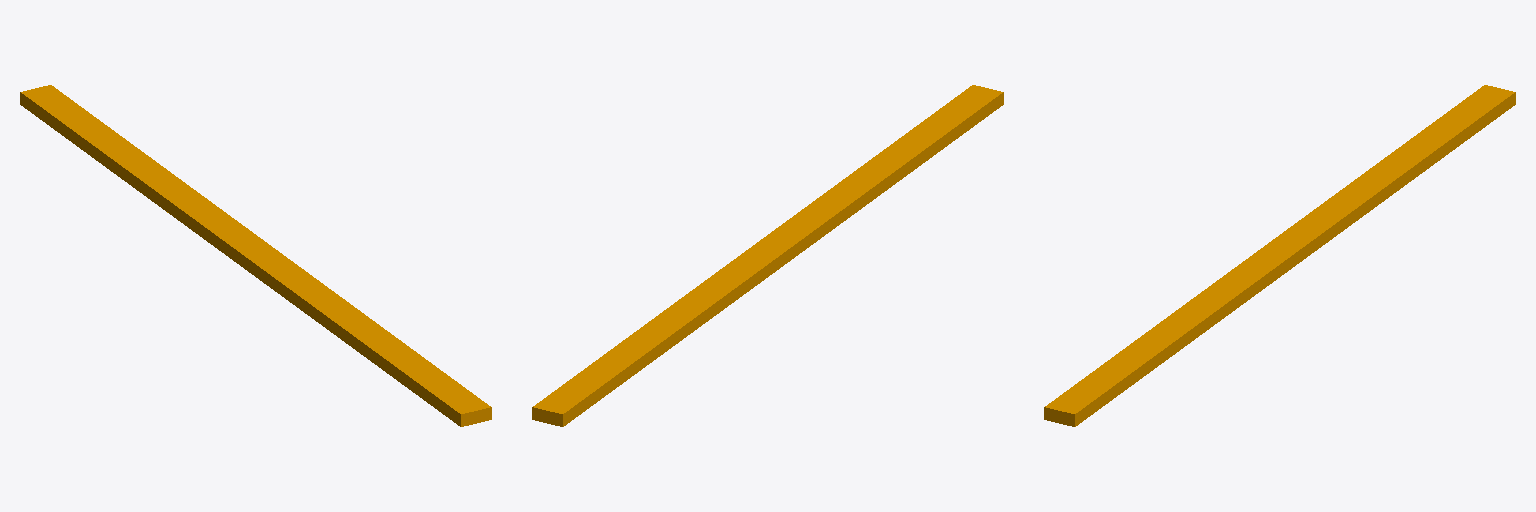
robot.urdf — rectangle:
<?xml version="1.0"?>
<robot name="rectangle">
    <link name="rectangle">
        <visual>
            <geometry>
                <box size="0.2 5.0 0.08" />
            </geometry>
            <origin xyz="0 0 0" rpy="0 0 0" />
        </visual>
        <collision>
            <geometry>
                <box size="0.2 5.0 0.08" />
            </geometry>
        </collision>
    </link>
</robot>

--- Render facts (derived) ---
The picture shows the robot from 3 angles, left to right: view 1: azimuth 30°, elevation 25°; view 2: azimuth 150°, elevation 25°; view 3: azimuth 330°, elevation 25°; orthographic projection.
Robot: rectangle — 1 links, 0 joints (none); root link rectangle; default pose: all joints at 0.
Visible links, largest first — view 1: rectangle; view 2: rectangle; view 3: rectangle.
Boxes of the visible links, <box> form: rectangle: <box>20,85,491,426</box>; rectangle: <box>532,85,1003,426</box>; rectangle: <box>1044,85,1515,426</box>.
Size in the robot's own frame: 0.2 by 5 by 0.08 metres.
Geometry: primitives only (box / cylinder / sphere), no mesh files.